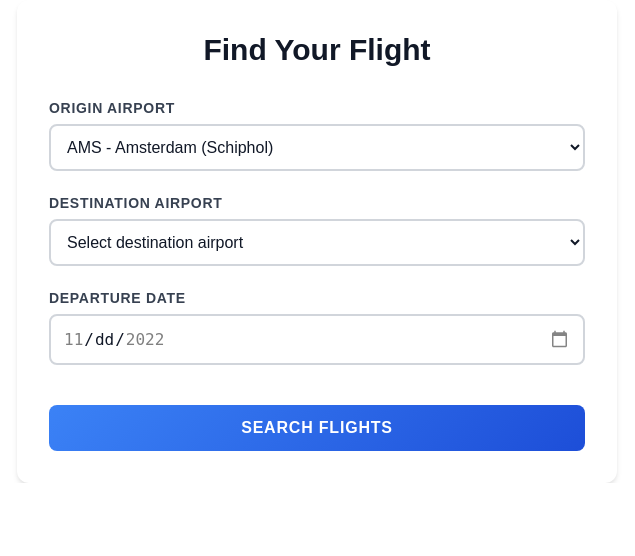
Test: SearchForm Component › Form validation › clears previous errors when form is corrected
First trigger validation errors
Click the button "Search Flights". click: [317, 428]
box: x1=49 y1=405 x2=585 y2=451
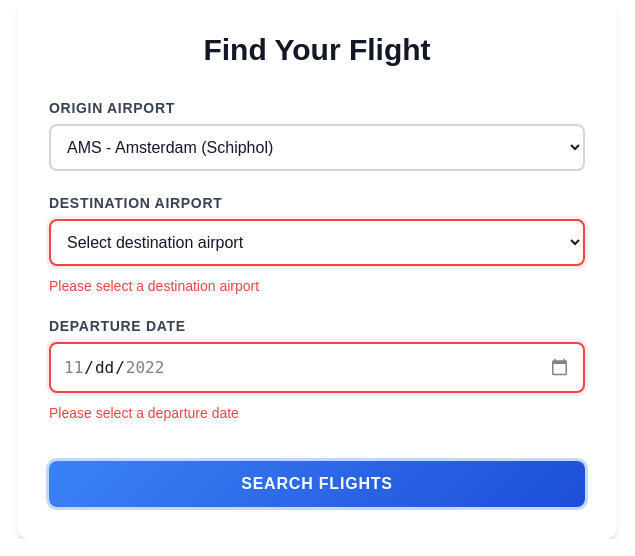
Expected: the text "Please select a destination airport" is shown, x1=49 y1=278 x2=259 y2=294
Then fix the form
Select "CDG - Paris Charles de Gaulle" in the dropdown labelled "Destination Airport". click: [317, 242]
box: x1=49 y1=219 x2=585 y2=266
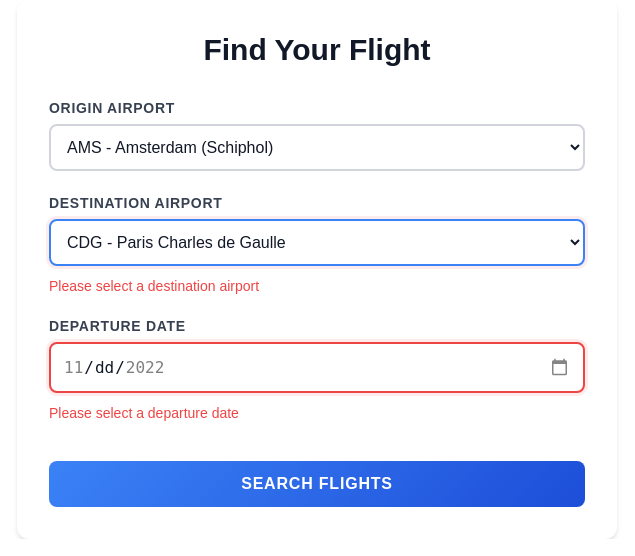
Type "2022-11-15" into the date field labelled "Departure Date". click: [317, 368]
box: x1=49 y1=342 x2=585 y2=393
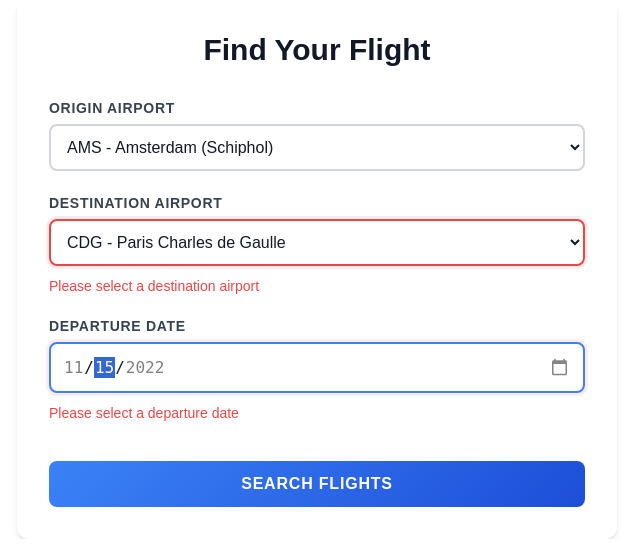
Click the button "Search Flights". click: [317, 484]
box: x1=49 y1=461 x2=585 y2=507
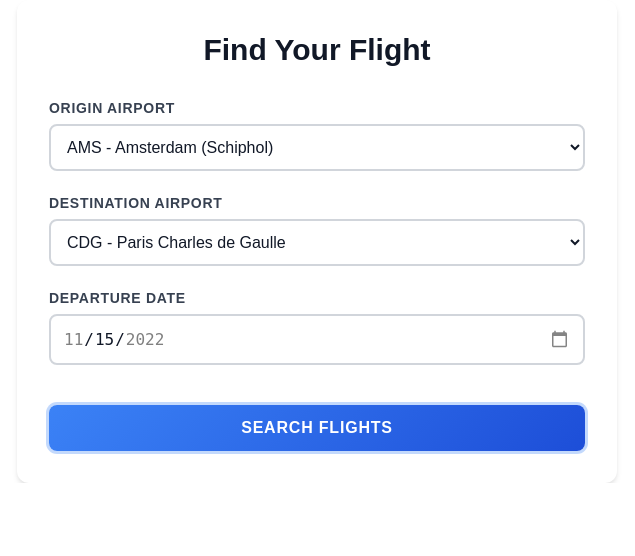
Expected: the text "Please select a destination airport" is gone
